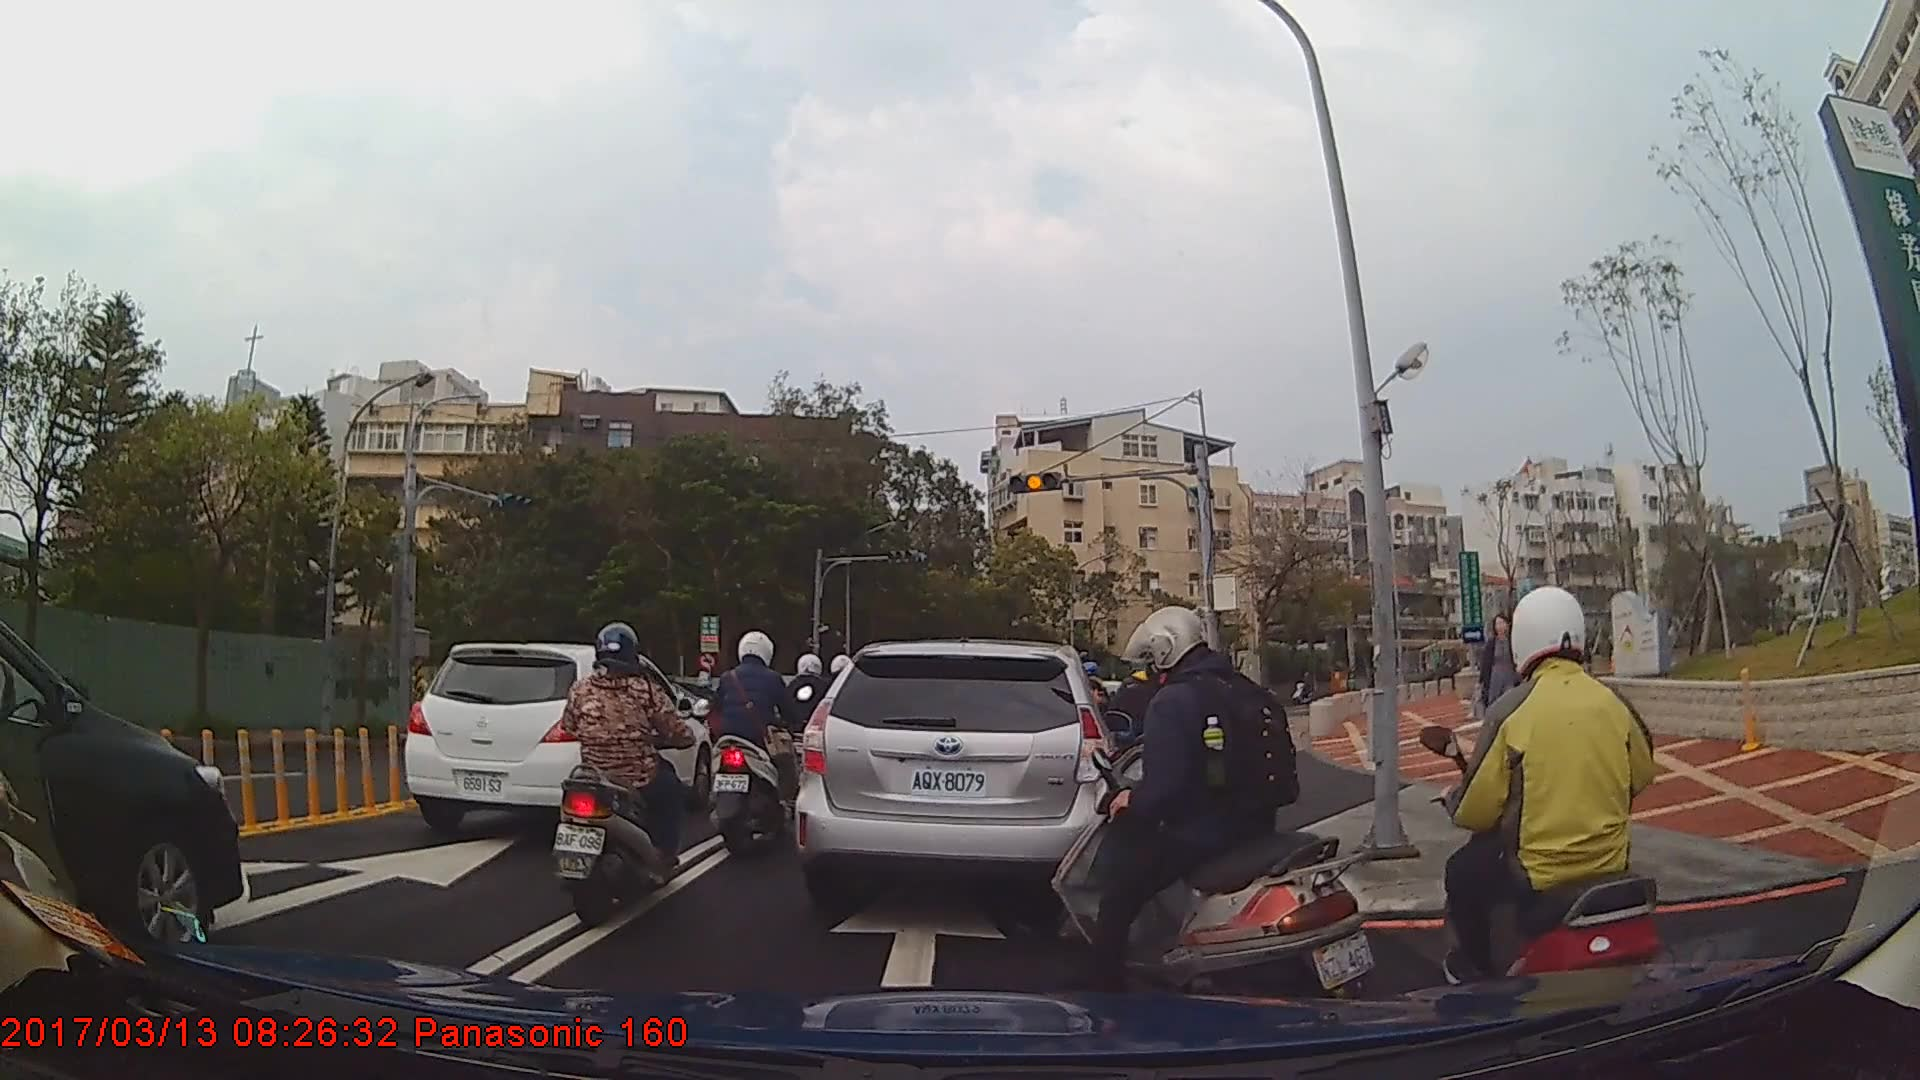pedestrian: (1474, 617, 1532, 759)
rider: (1045, 605, 1383, 1010), (1427, 580, 1669, 1049), (550, 618, 695, 929), (706, 627, 814, 856), (1105, 652, 1176, 823), (782, 654, 838, 805)
vehicle: (790, 636, 1118, 927), (0, 620, 239, 955), (401, 641, 712, 837)
